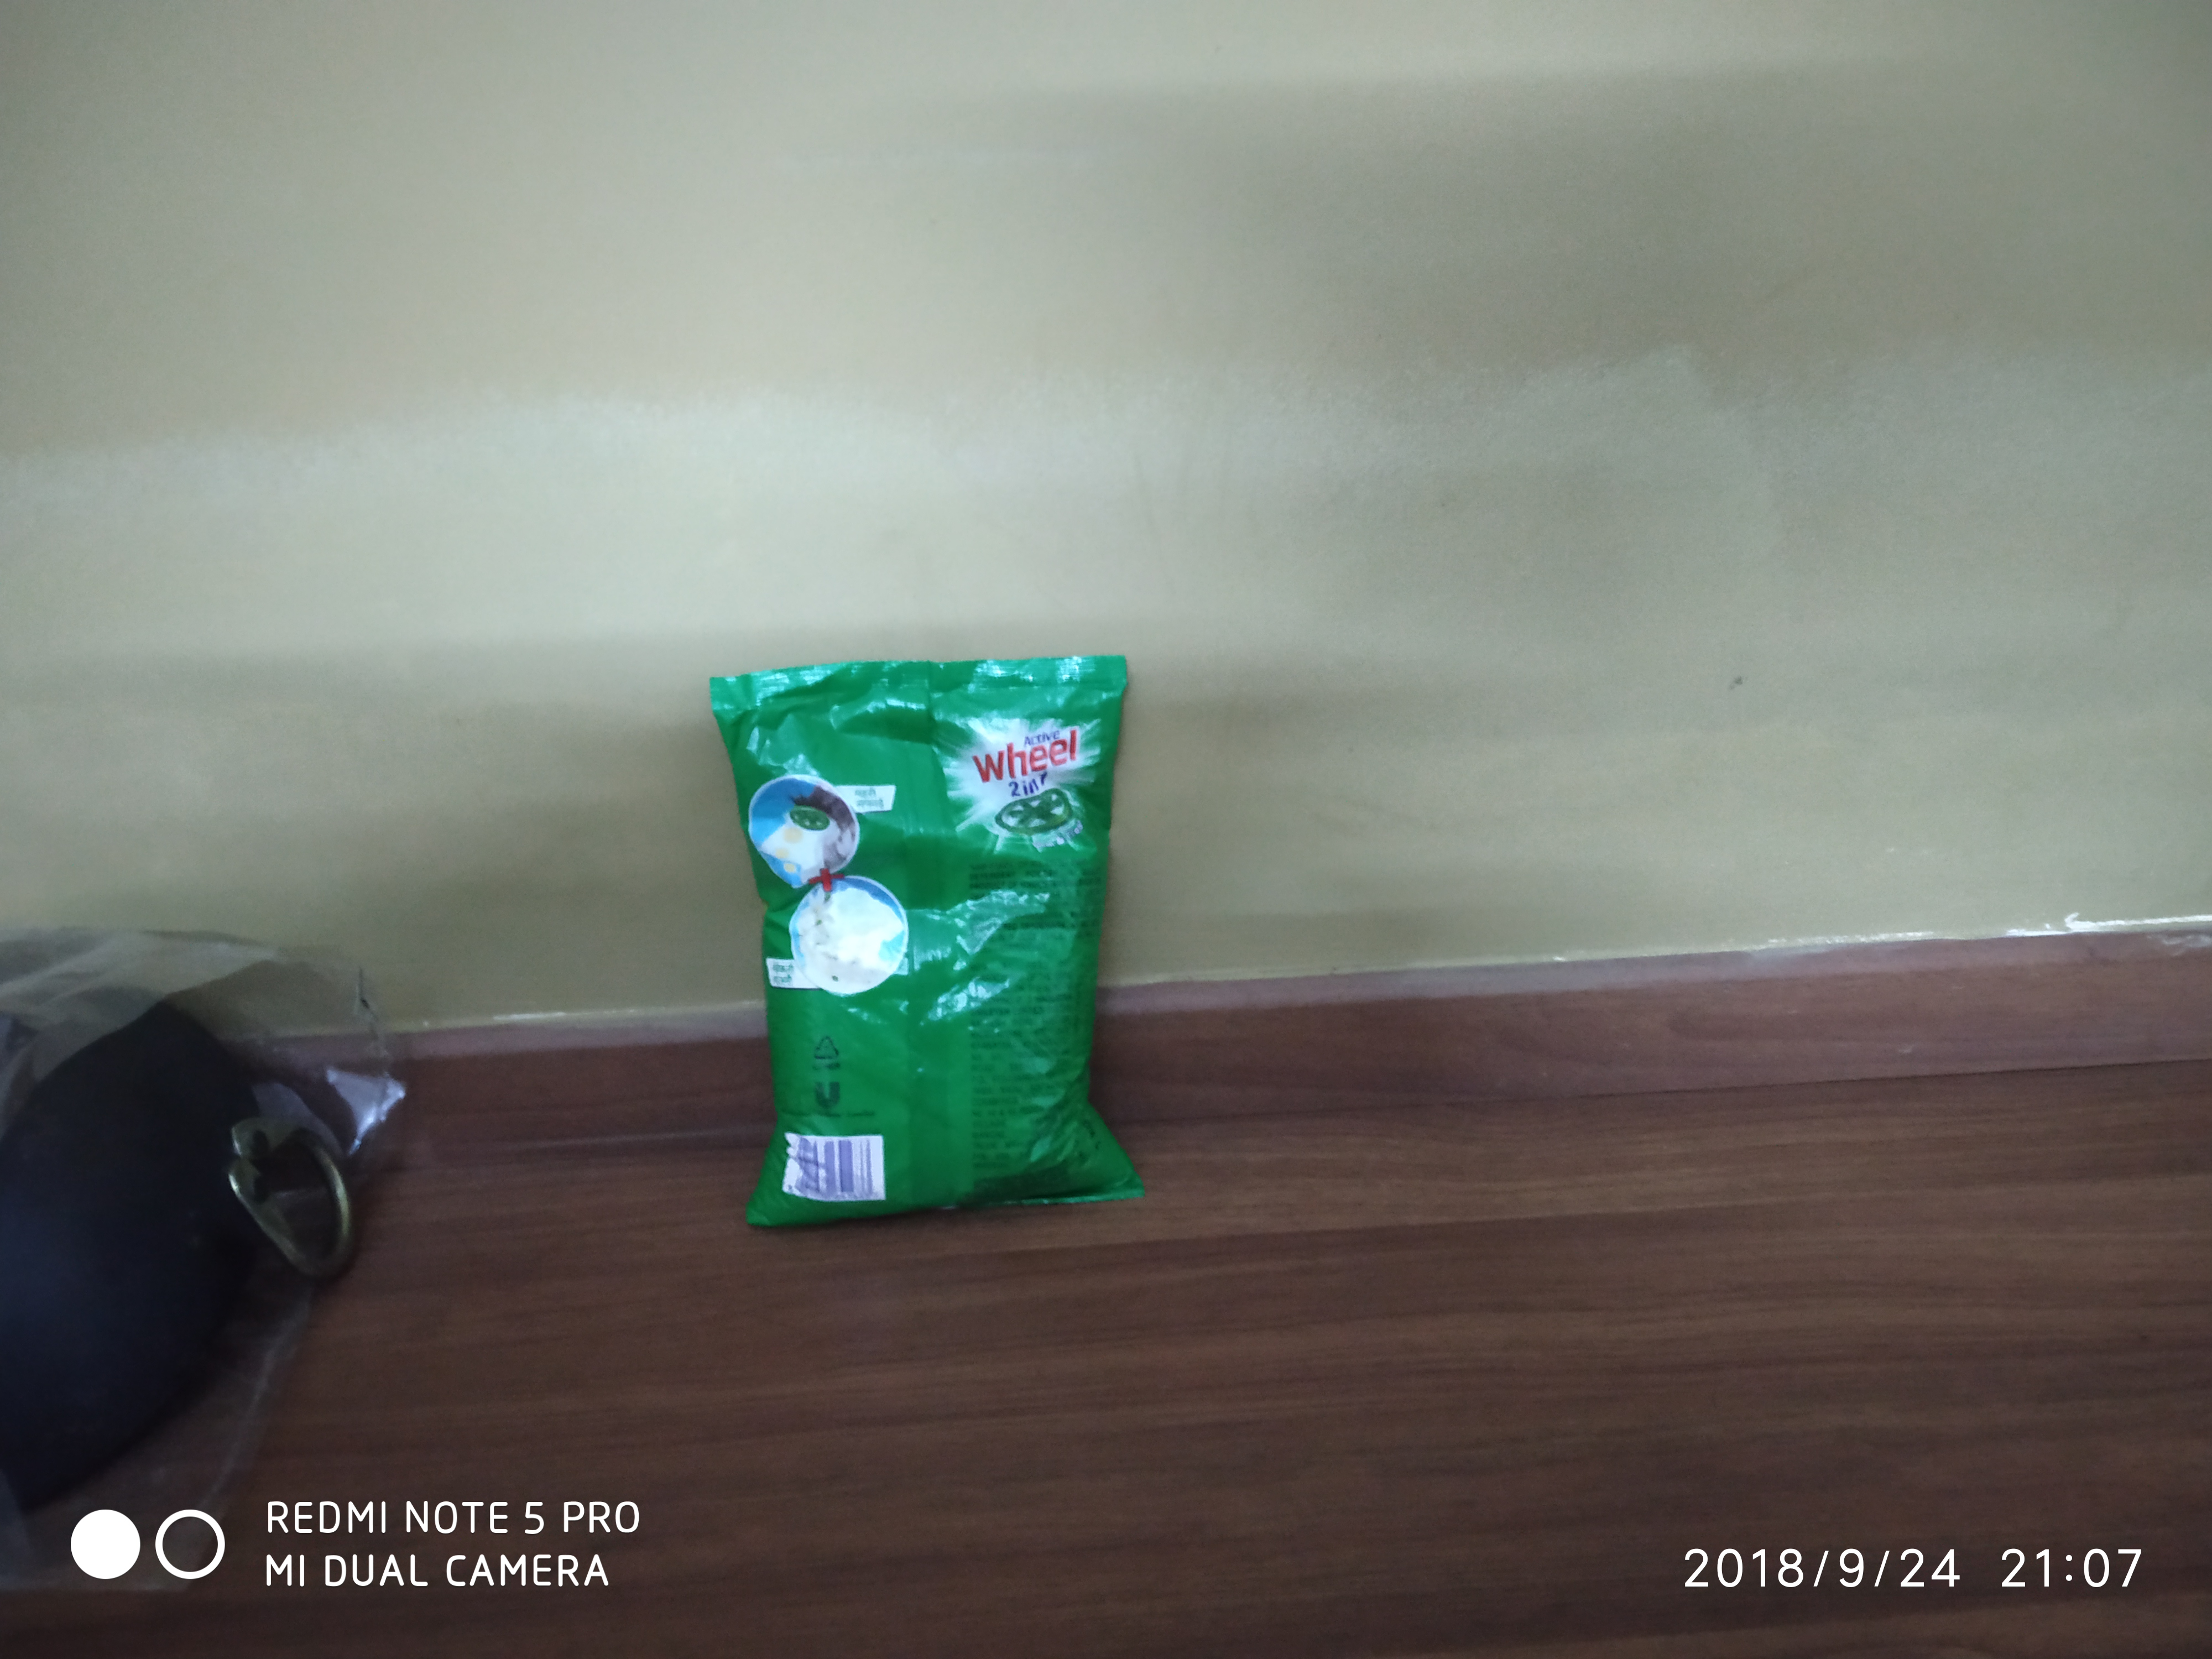detergent: (695, 651, 1170, 1234)
